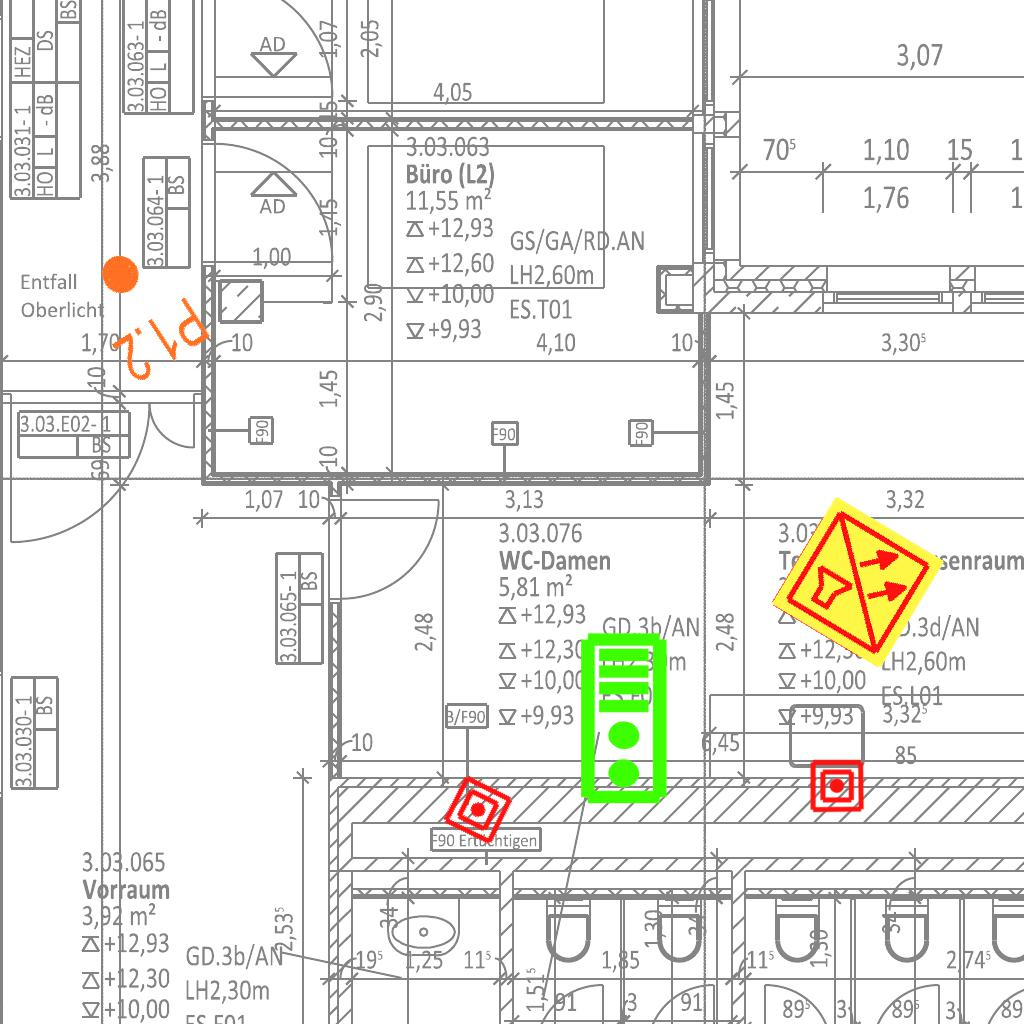Downlight_LED_Einbauleuchten_Flur: (67, 230, 216, 390)
Gegensprechanlage_mit_Video: (578, 631, 673, 807)
NAM-Nichtautomatischer_Melder: (440, 772, 516, 848), (809, 758, 865, 814)
OKW_Multisensormelder_(Kombination_optischer_Rauch-Kahlenmonoxid_Waerme-Melder): (767, 492, 949, 674)
